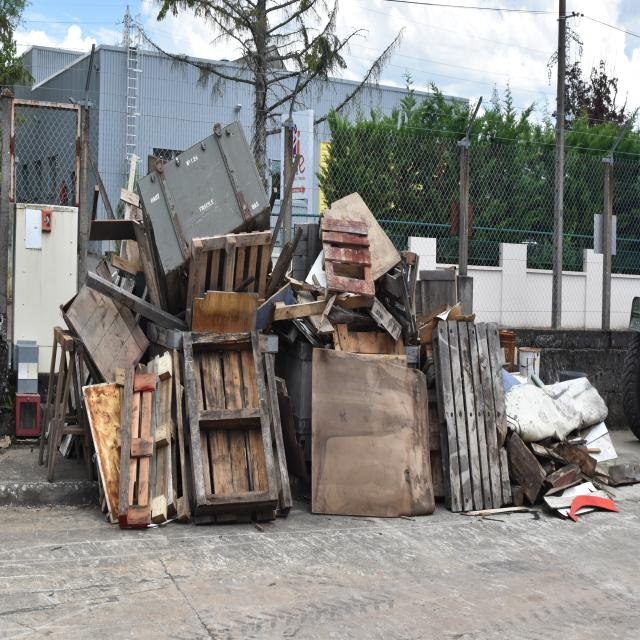entulho: (132, 114, 285, 331), (444, 339, 625, 520), (286, 196, 418, 355), (313, 347, 428, 514), (412, 264, 496, 440), (198, 333, 274, 520), (136, 346, 202, 524), (60, 282, 150, 382), (46, 318, 95, 483), (116, 367, 156, 529), (110, 254, 142, 275)
